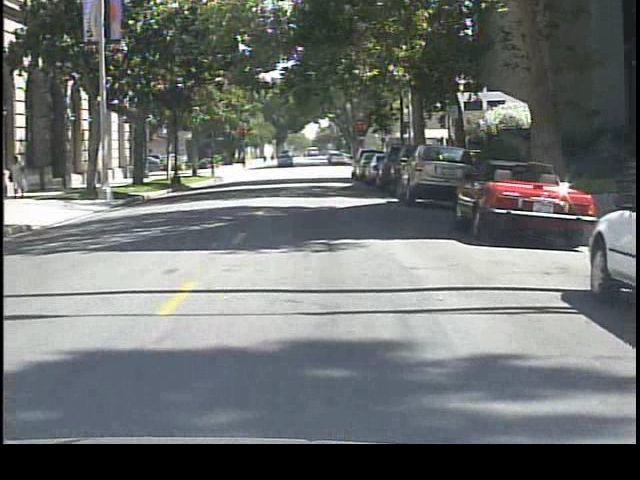person: (8, 151, 34, 199)
